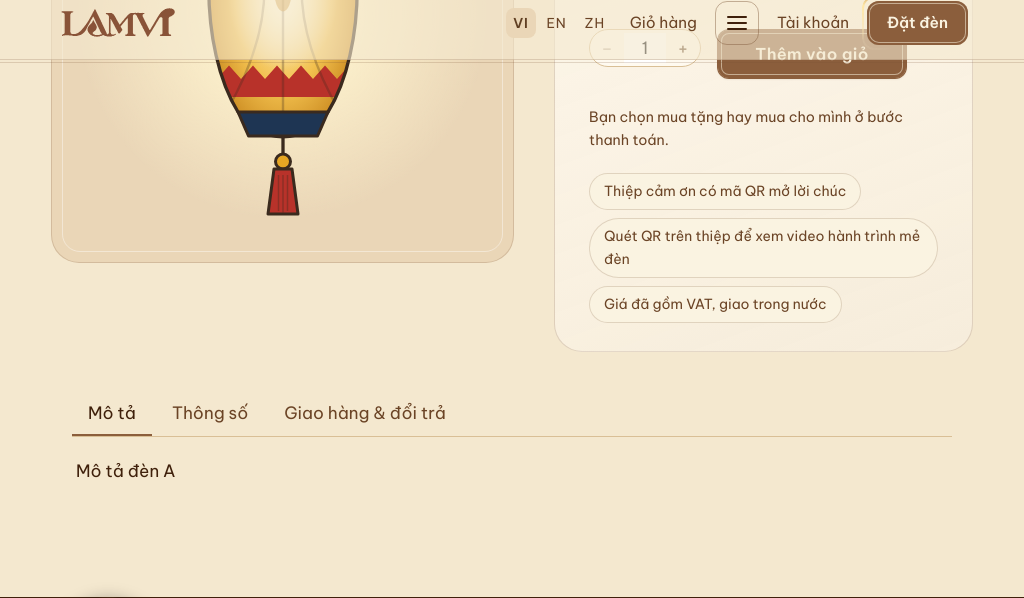
Scenario: Tab thông tin sản phẩm › chưa có thông số → báo đang cập nhật; tab Giao hàng có phí ship và liên kết chính sách
(page scrolled)
Click the tab "Thông số": coordinates (210, 414) [156, 392, 264, 436]
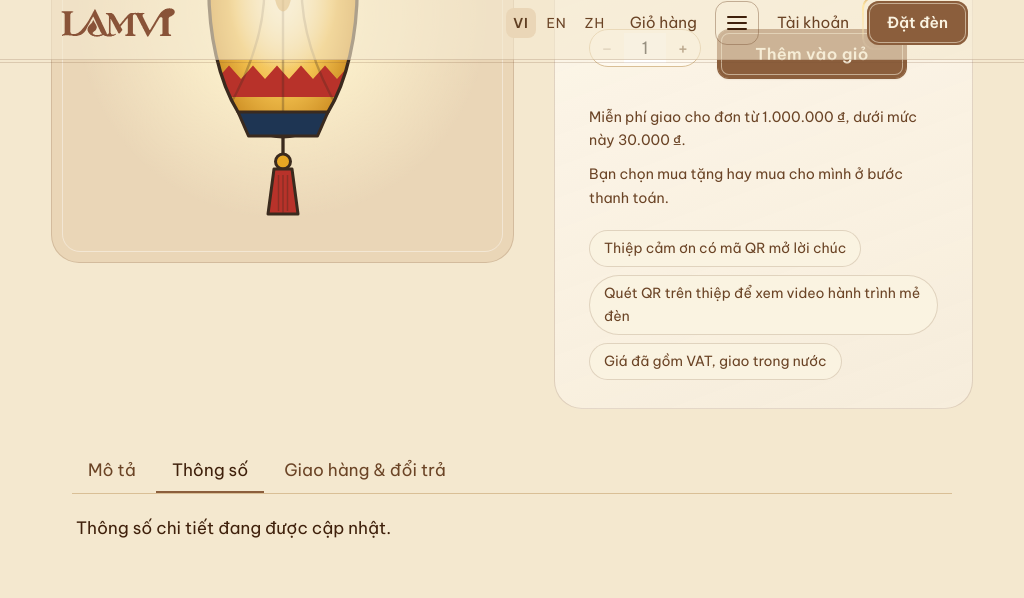
Expected: the text "Thông số chi tiết đang được cập nhật." is shown, [76, 517, 391, 539]
Click the tab "Giao hàng & đổi trả": coordinates (365, 471) [268, 449, 462, 493]
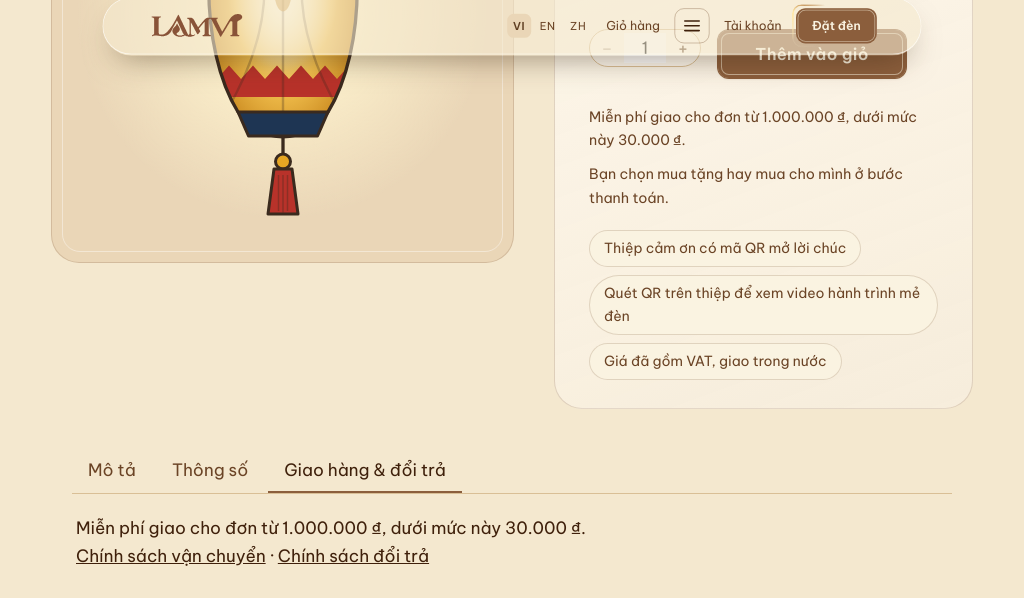
Expected: the link to "/shipping" is shown, [76, 545, 266, 567]
Expected: the link to "/returns" is shown, [278, 545, 429, 567]
